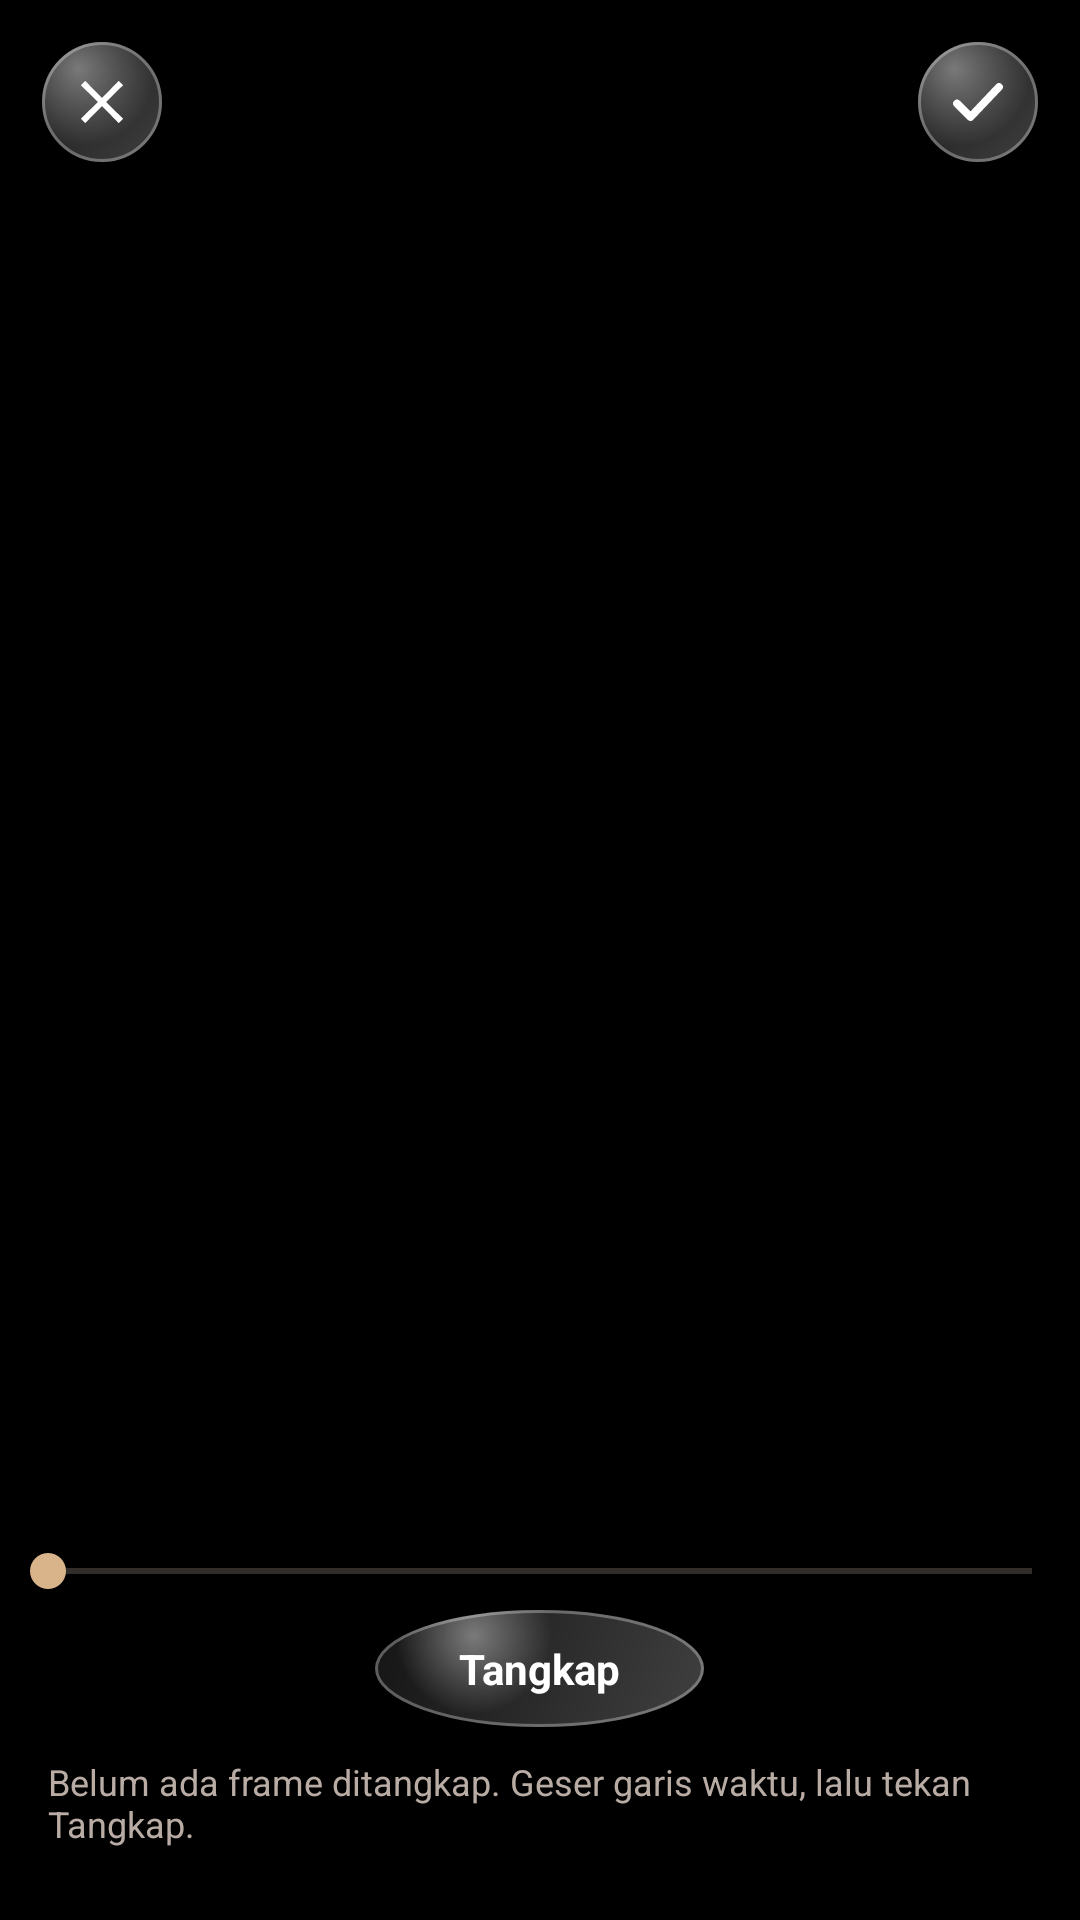

Screen size 1080w x 1920h. Icon name, then its box in pixels as (x1, y1, x2, y2):
Simpan: (918, 42, 1038, 162)
Tutup ambil frame: (42, 42, 162, 162)
